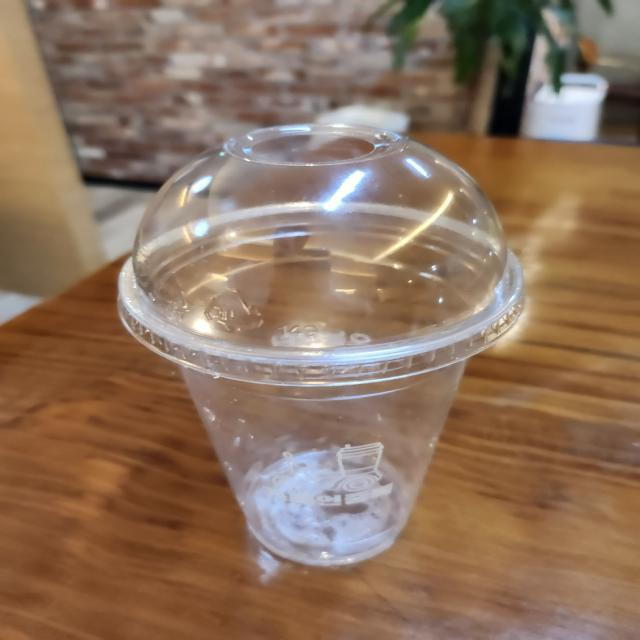plastic_cup_lid: (114, 119, 530, 385)
